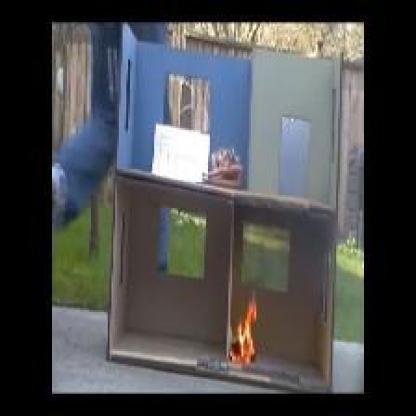fire: (229, 289, 258, 361)
